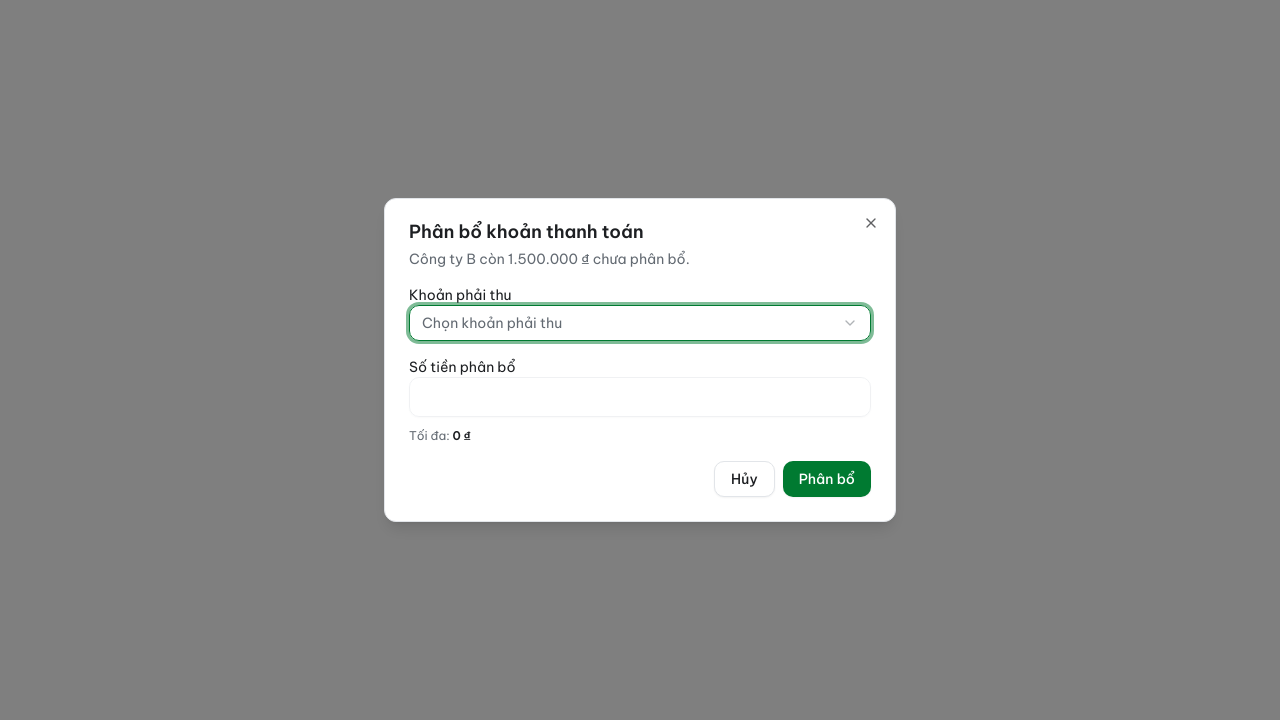
AllocateCreditDialog › does not expose a technical id when a receivable has no invoice
Click the dropdown labelled "Chọn khoản phải thu" at (492, 323), box [409,305,871,341]
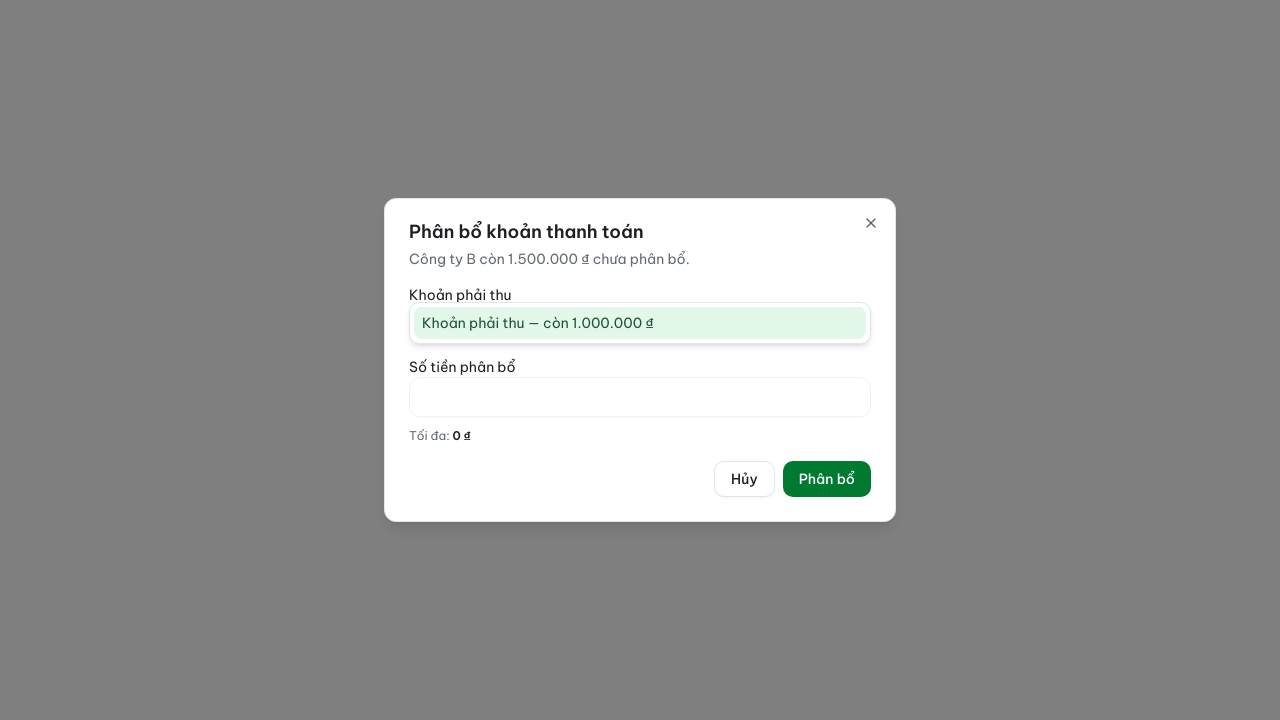
Expected: the option "Khoản phải thu — còn 1.000.000 ₫" is shown, [414,307,866,339]
